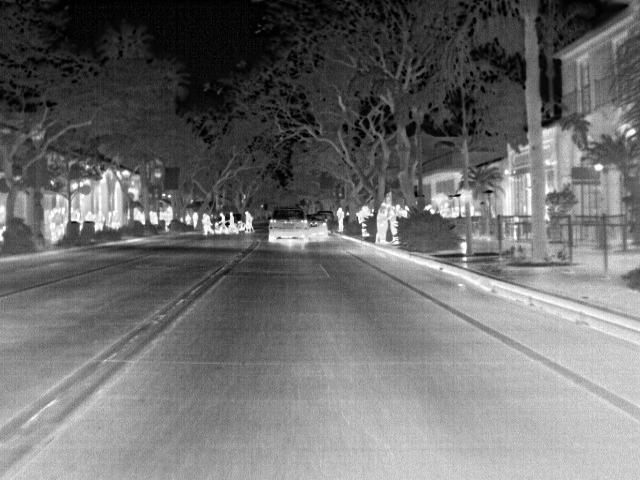car: (266, 206, 308, 241), (307, 218, 329, 244)
person: (385, 204, 399, 242), (201, 211, 216, 235), (225, 210, 239, 235), (335, 206, 347, 232), (242, 210, 255, 232), (214, 212, 226, 233)
